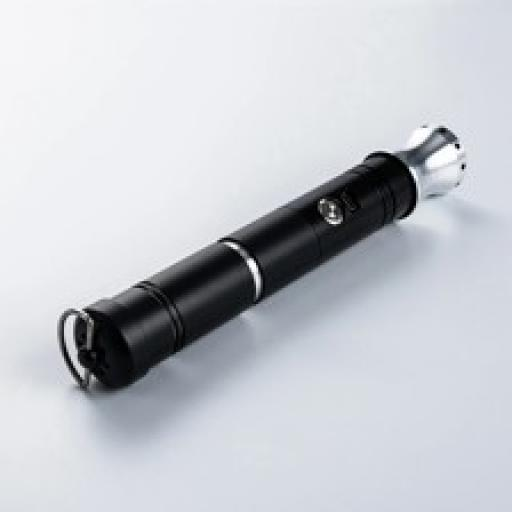lightsaber: (58, 125, 471, 405)
